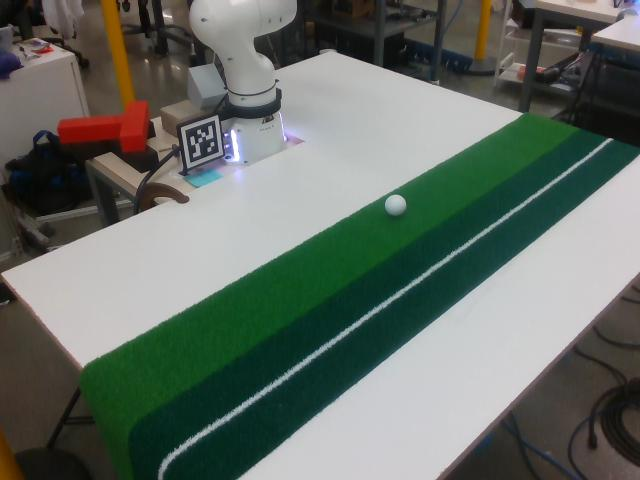golf_balls: (385, 195, 407, 216)
